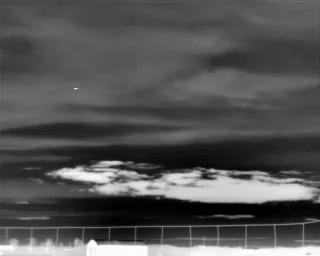AIRPLANE: (71, 85, 80, 92)
